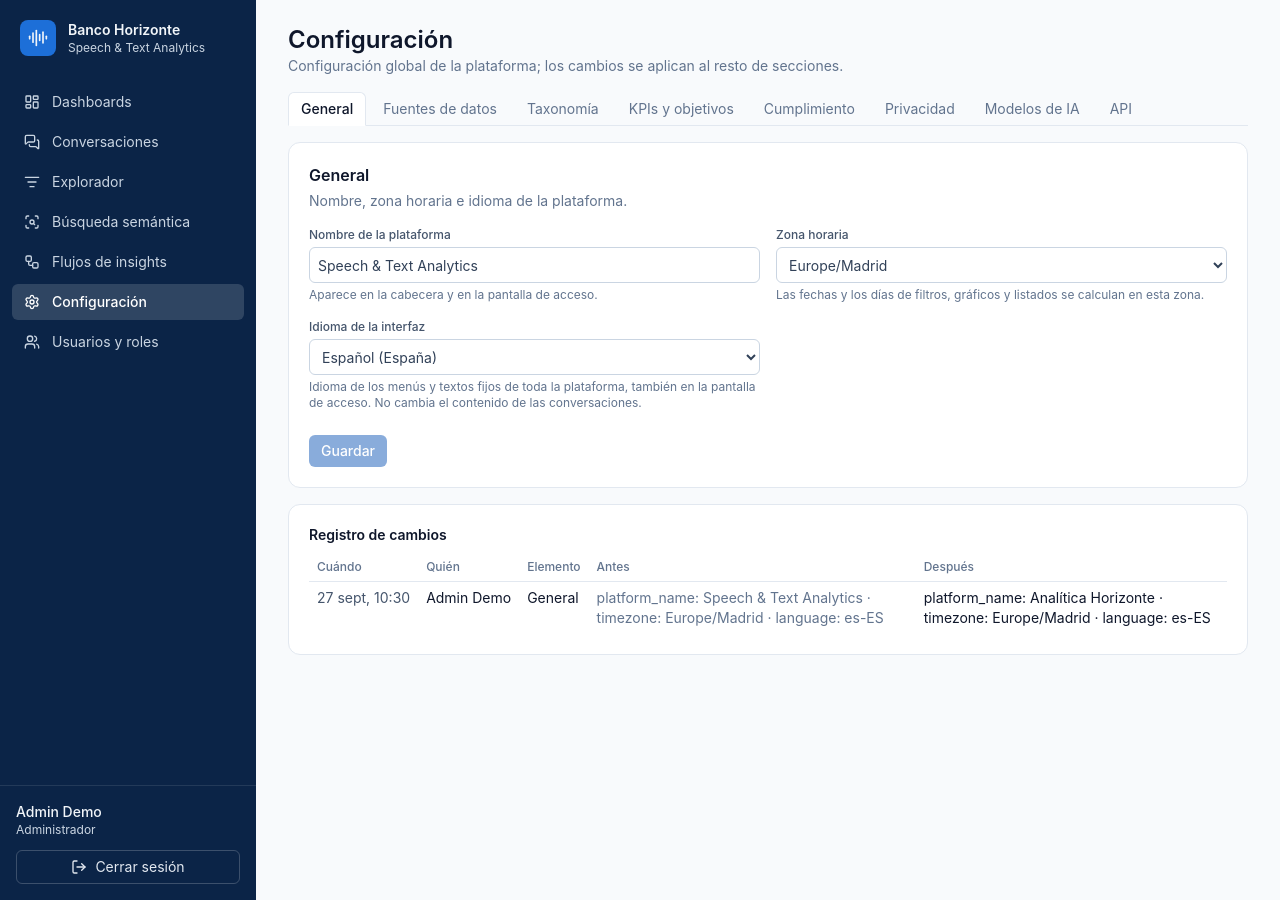
Scenario: Configuración: auditoría y solo lectura › cada pestaña muestra su registro de cambios
This screenshot has width=1280, height=900.
Click the tab "General" at coordinates (327, 109), box [288,92,366,126]
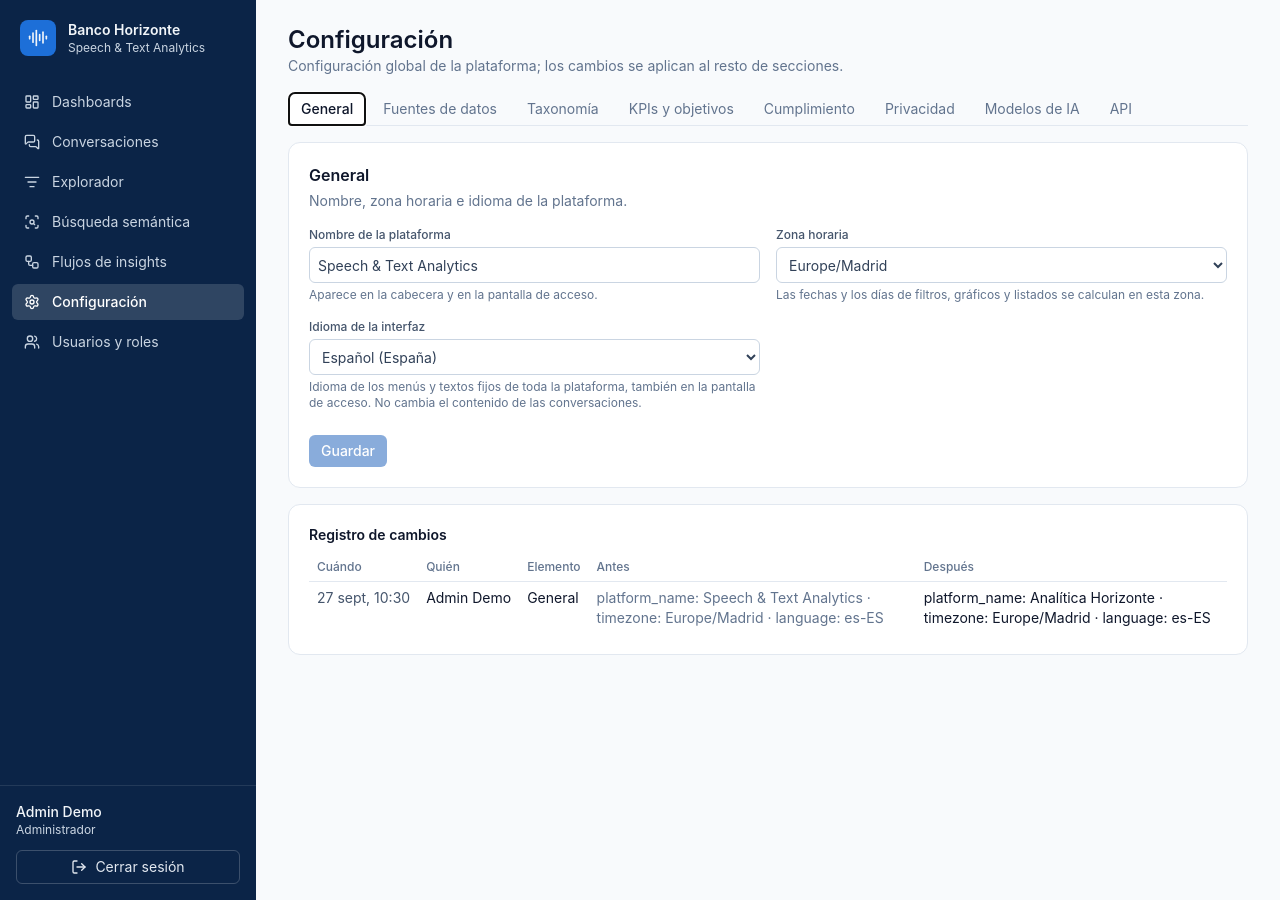
Expected: the element "Registro de cambios" shows "Admin Demo", [426,589,511,606]
Expected: the element "Registro de cambios" shows "27 sept", [317,589,410,606]
Click the tab "Privacidad" at coordinates (920, 109), box [872,92,968,126]
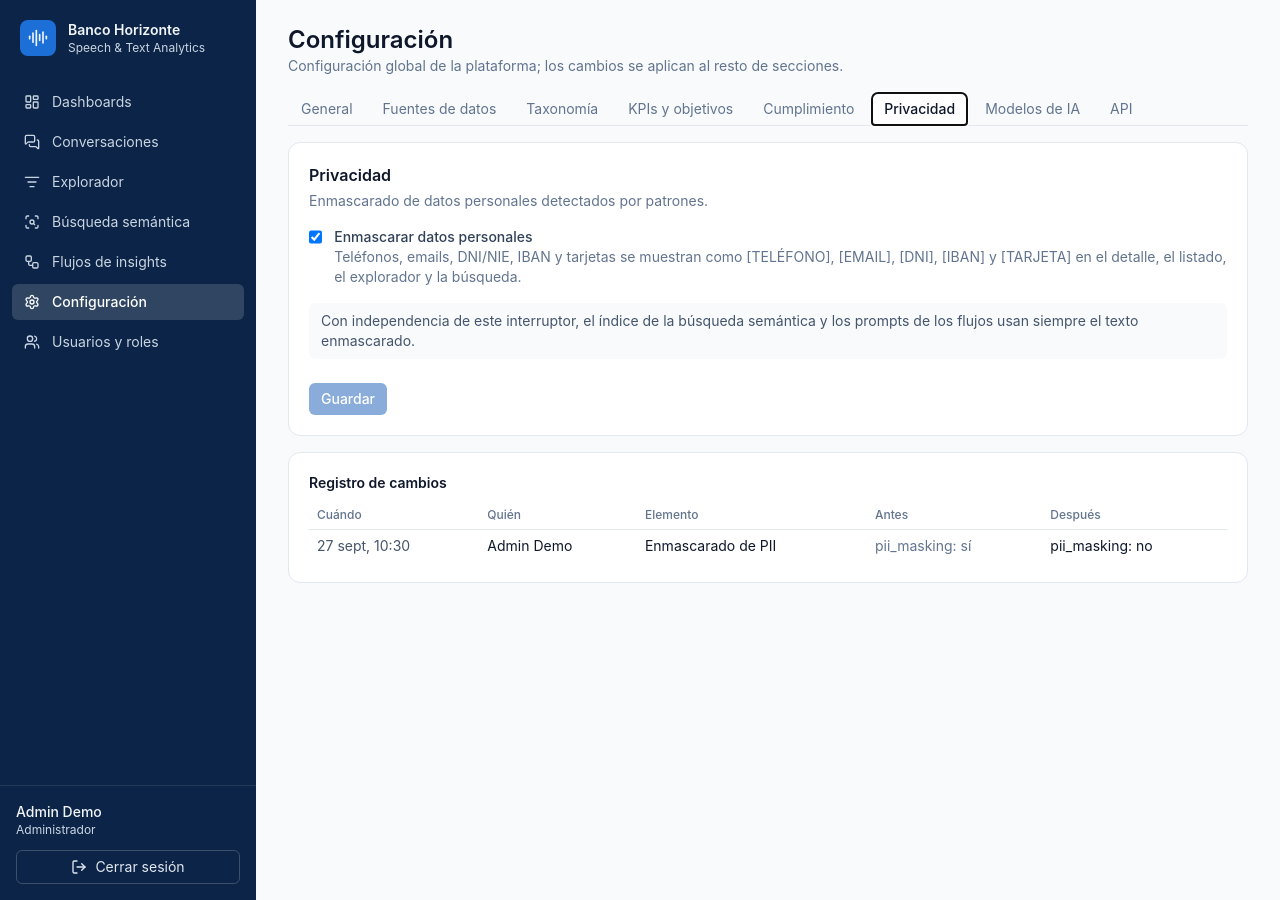
Expected: the element "Registro de cambios" shows "Enmascarado de PII", [645,537,776,554]
